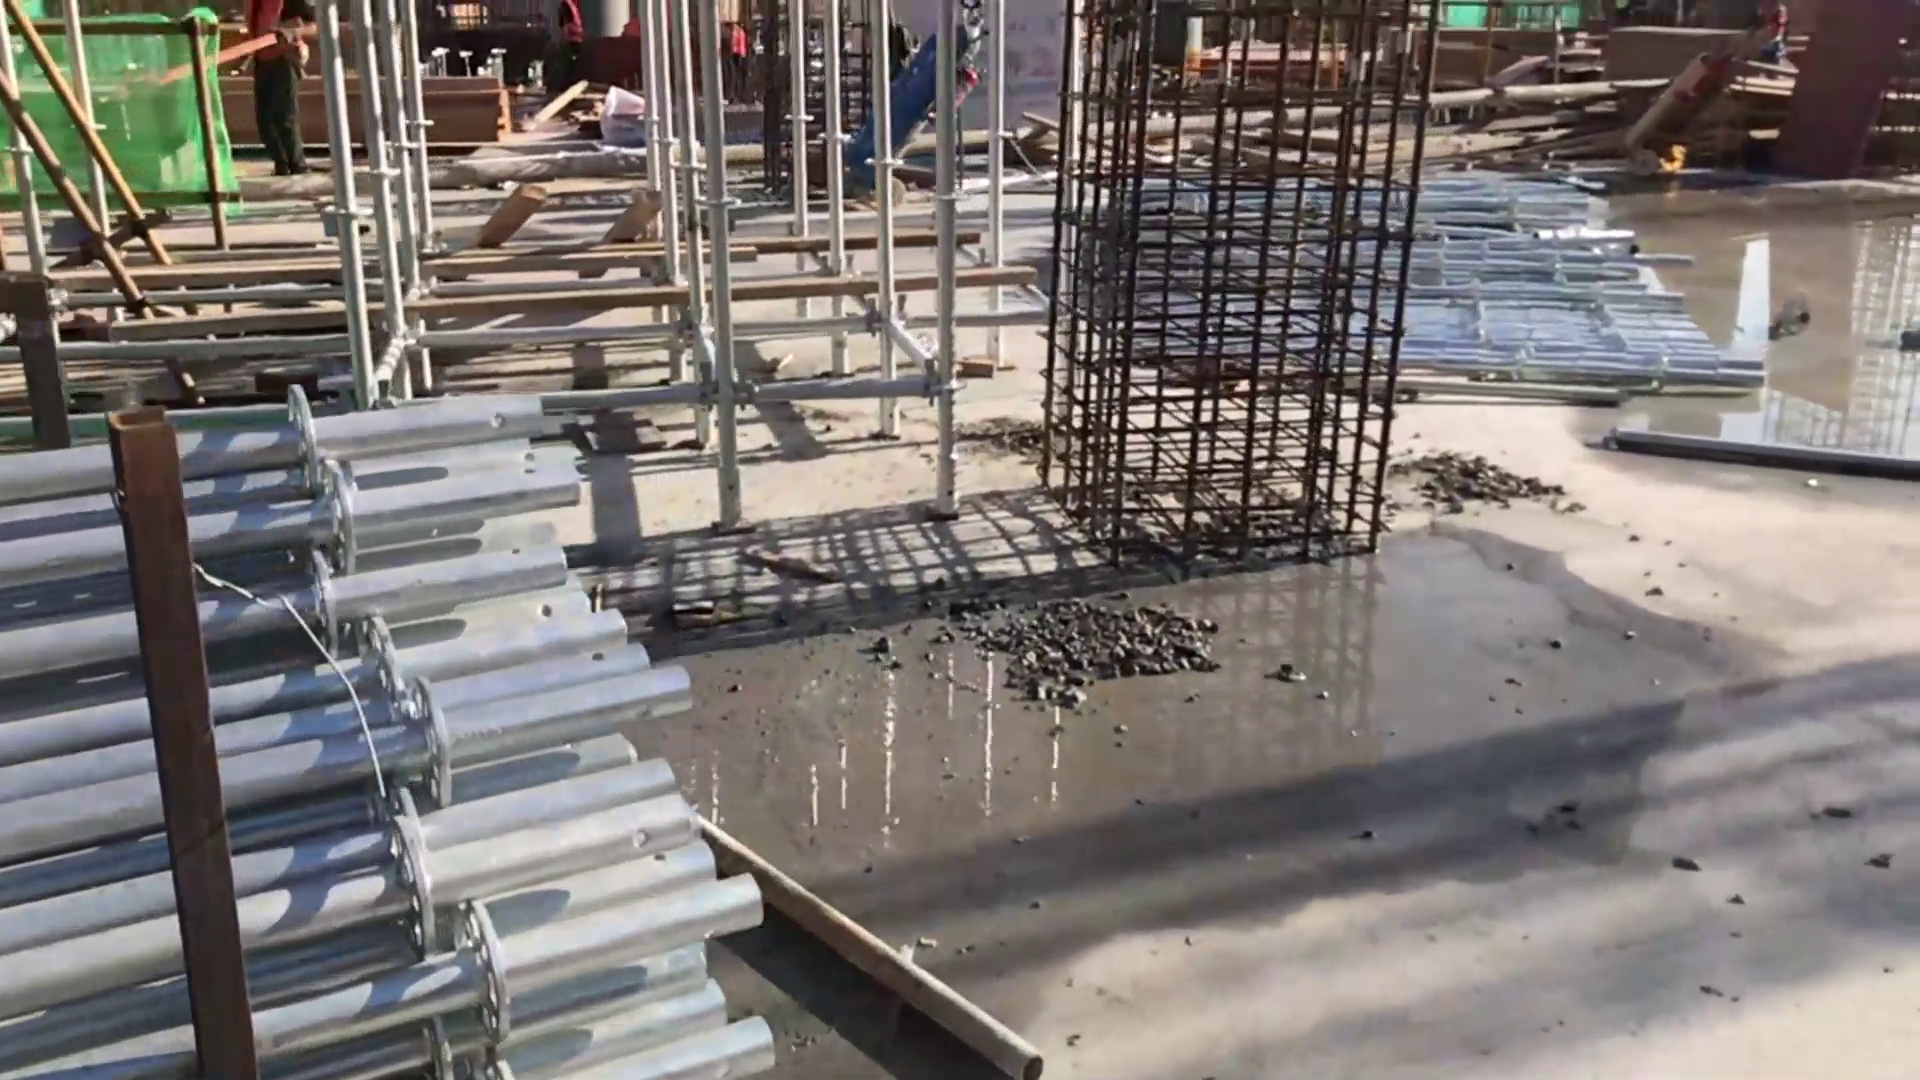person: (240, 1, 323, 164)
scaffold: (2, 385, 789, 1080), (1428, 179, 1779, 403)
